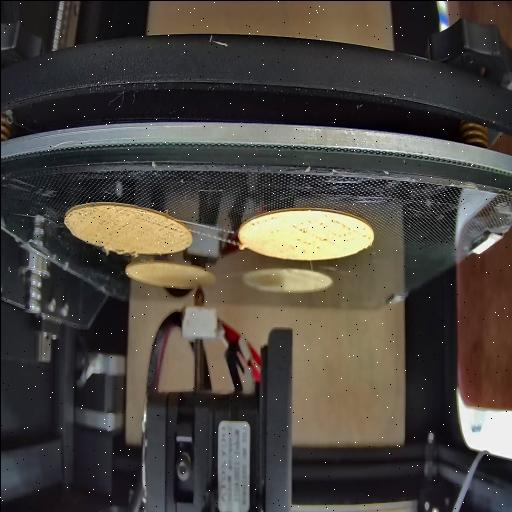under_extrusion: (290, 214, 353, 256), (80, 206, 130, 238), (146, 214, 180, 240), (248, 214, 278, 232)
